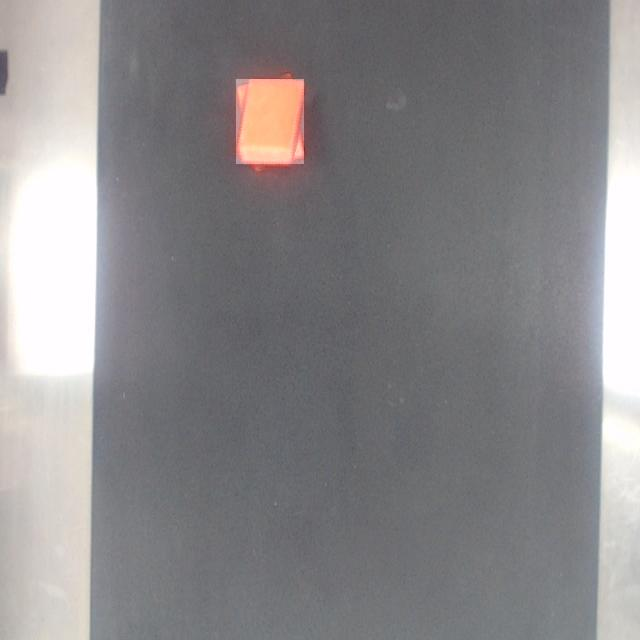Rojo: (236, 80, 304, 164)
